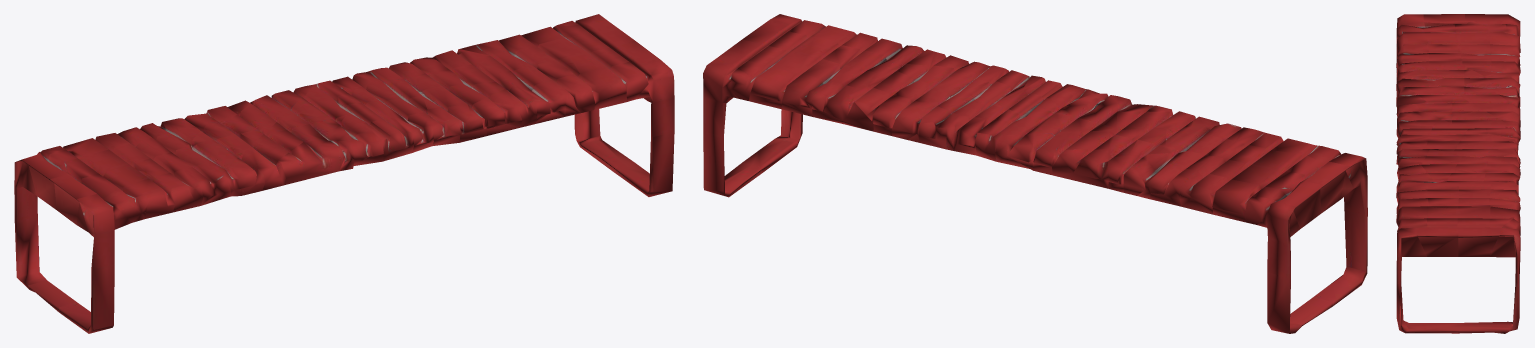
File: bench2_lod1.glb
3 renders of one model, left to right at view 1: azimuth 30°, elevation 25°; view 2: azimuth 150°, elevation 25°; view 3: azimuth 270°, elevation 25°, orthographic. The views are drawn at different scales.
Visible parts, largest first — view 1: mesh_node; view 2: mesh_node; view 3: mesh_node.
Part boxes in pixels (x1,y1,x2,y2): mesh_node: [14, 14, 674, 333]; mesh_node: [703, 14, 1367, 333]; mesh_node: [1396, 14, 1520, 333].
Bounding box in the file's own units: 1.9 × 0.4083 × 0.4531.
Materials: 1 (1 with a texture image).
